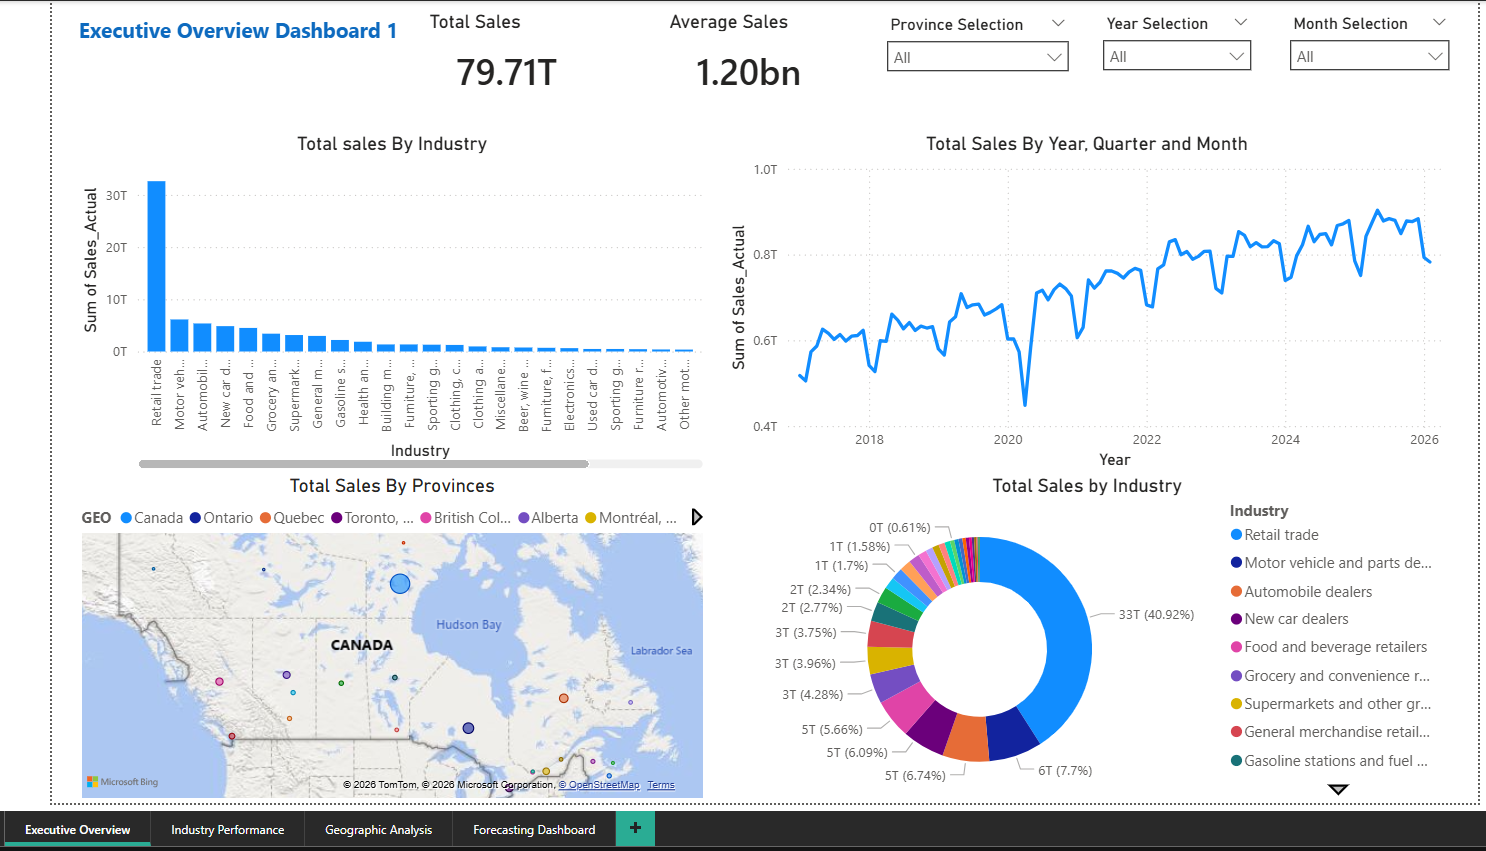

Layout of this report page (visuals, bound fields, positions):
{"tool":"powerbi","page":{"name":"Executive Overview","canvas":[1280,720],"ordinal":0},"visuals":[{"type":"cardVisual","title":"Total Sales","fields":{"Data":["Sum(retail_sales_cleaned.Sales_Actual)"]},"box":[333.8,7.8,199.2,86.3],"z":0},{"type":"cardVisual","title":"Average Sales","fields":{"Data":["Avg(retail_sales_cleaned.Sales_Actual)"]},"box":[549.4,7.8,180.3,86.3],"z":1000},{"type":"lineChart","title":"Total Sales By Year, Quarter and Month","fields":{"Category":["retail_sales_cleaned.REF_DATE.Variation.Date Hierarchy.Year","retail_sales_cleaned.REF_DATE.Variation.Date Hierarchy.Quarter","retail_sales_cleaned.REF_DATE.Variation.Date Hierarchy.Month"],"Y":["Sum(retail_sales_cleaned.Sales_Actual)"]},"box":[603.3,117.6,651.8,307],"z":2000},{"type":"clusteredColumnChart","title":"Total sales By Industry","fields":{"Y":["Sum(retail_sales_cleaned.Sales_Actual)"],"Category":["retail_sales_cleaned.Industry"]},"box":[21.6,117.3,567.5,307.1],"z":3000},{"type":"map","title":"Total Sales By Provinces","fields":{"Category":["retail_sales_cleaned.GEO"],"Size":["Sum(retail_sales_cleaned.Sales_Actual)"],"Series":["retail_sales_cleaned.GEO"]},"box":[21.6,424.4,567.5,295.8],"z":4000},{"type":"donutChart","title":"Total Sales by Industry","fields":{"Category":["retail_sales_cleaned.Industry"],"Y":["Sum(retail_sales_cleaned.Sales_Actual)"]},"box":[602.9,424.4,652.1,295.8],"z":5000},{"type":"slicer","fields":{"Values":["retail_sales_cleaned.Year"]},"box":[933.3,6.9,152.7,63.8],"z":6000},{"type":"slicer","fields":{"Values":["retail_sales_cleaned.Month_Name"]},"box":[1101.5,6.9,163,63.8],"z":7000},{"type":"slicer","fields":{"Values":["retail_sales_cleaned.GEO"]},"box":[740.1,7.8,182.9,63],"z":8000},{"type":"textbox","box":[8.1,8.1,318.7,53],"z":8001}]}

Visuals, with their boxes on the page's 1280x720 design canvas (x1, y1, x2, y2). These are canvas units, not pixel positions in the 1486x851 screenshot, which may show the page scaled, cropped or inside an application window:
"Total Sales" cardVisual: locate(334, 8, 533, 94)
"Average Sales" cardVisual: locate(549, 8, 730, 94)
"Total Sales By Year, Quarter and Month" lineChart: locate(603, 118, 1255, 425)
"Total sales By Industry" clusteredColumnChart: locate(22, 117, 589, 424)
"Total Sales By Provinces" map: locate(22, 424, 589, 720)
"Total Sales by Industry" donutChart: locate(603, 424, 1255, 720)
slicer - retail_sales_cleaned.Year: locate(933, 7, 1086, 71)
slicer - retail_sales_cleaned.Month_Name: locate(1102, 7, 1264, 71)
slicer - retail_sales_cleaned.GEO: locate(740, 8, 923, 71)
textbox: locate(8, 8, 327, 61)
